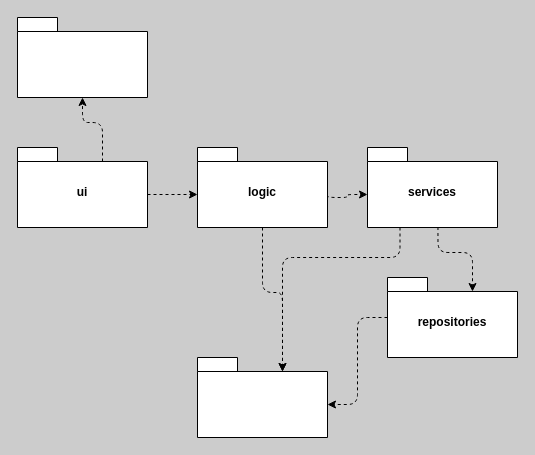
The diagram is 535 pixels wide and 455 high, and some of its shapes have lost their labels. Each missing label, with the centre of its shape:
assets: pixel 82 57
entities: pixel 262 397
